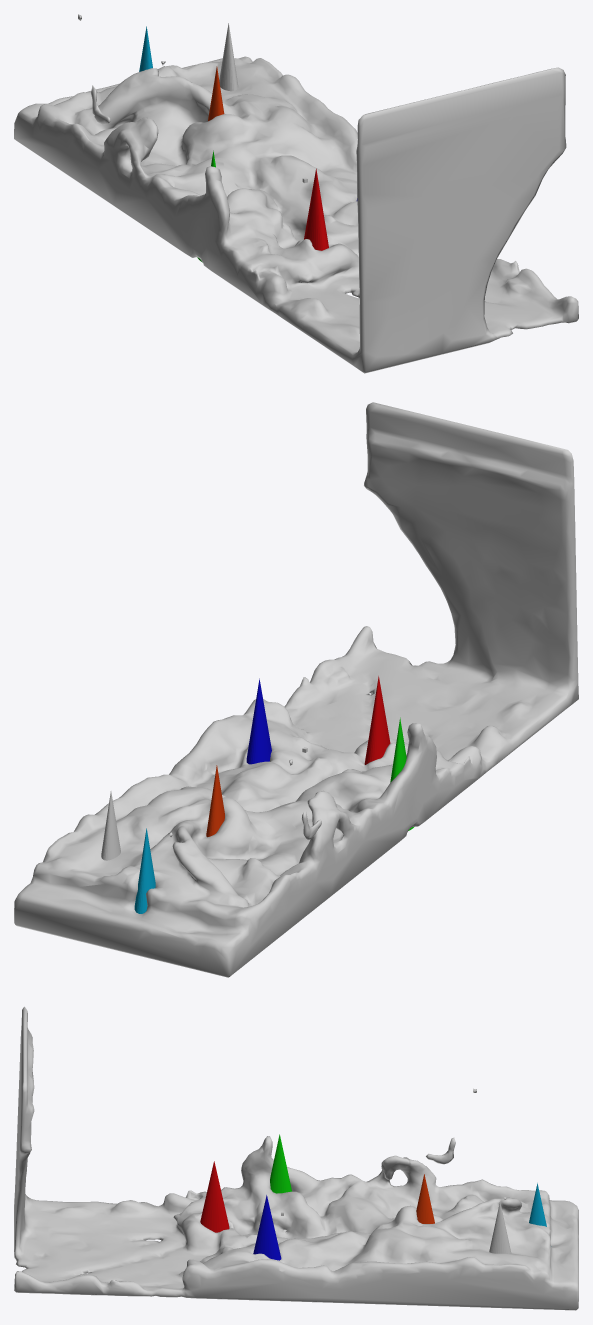
The picture shows the model from 3 angles, top to bottom: view 1: azimuth 30°, elevation 25°; view 2: azimuth 150°, elevation 25°; view 3: azimuth 270°, elevation 25°; orthographic projection. The views are drawn at different scales.
Parts seen in each view (by area): view 1: Liquid_Domain, 円錐.001, 円錐, 円錐.004; view 2: Liquid_Domain, 円錐.002, 円錐.001, 円錐.005, 円錐, 円錐.004; view 3: Liquid_Domain, 円錐.001, 円錐.002, 円錐.003, 円錐, 円錐.004, 円錐.005.
Part boxes in pixels (x1,y1,x2,y2): Liquid_Domain: (14, 14, 578, 373); 円錐.001: (304, 168, 328, 250); 円錐: (219, 23, 238, 91); 円錐.004: (208, 66, 224, 121); Liquid_Domain: (14, 402, 578, 977); 円錐.002: (246, 678, 271, 764); 円錐.001: (364, 676, 390, 764); 円錐.005: (134, 828, 155, 913); 円錐: (101, 791, 120, 860); 円錐.004: (206, 765, 224, 837); Liquid_Domain: (14, 1006, 578, 1310); 円錐.001: (200, 1161, 229, 1232); 円錐.002: (253, 1195, 281, 1260); 円錐.003: (270, 1134, 291, 1193); 円錐: (489, 1201, 511, 1253); 円錐.004: (416, 1174, 434, 1223); 円錐.005: (529, 1183, 546, 1226).
Size of the model in its own units: 129 by 158 by 361.
